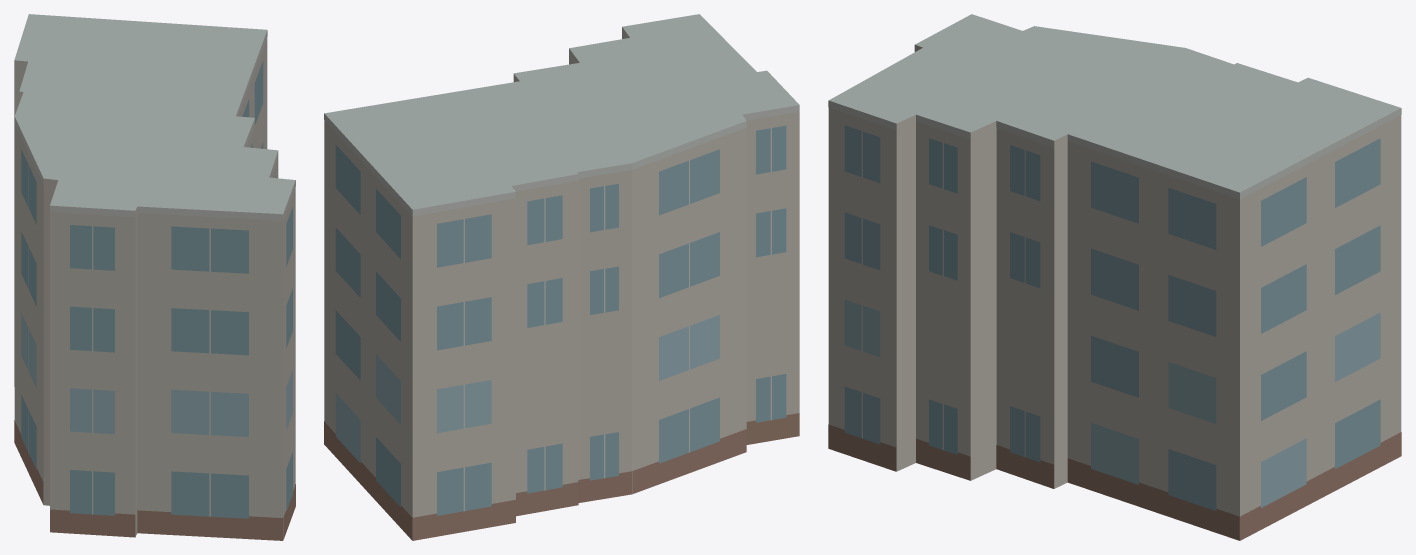
File: survey-upis-32811868.glb
3 renders of one model, left to right at view 1: azimuth 30°, elevation 25°; view 2: azimuth 150°, elevation 25°; view 3: azimuth 270°, elevation 25°, orthographic. The views are drawn at different scales.
Parts seen in each view (by area): view 1: survey-upis-32811868.tmp; view 2: survey-upis-32811868.tmp; view 3: survey-upis-32811868.tmp.
Boxes of the visible parts, bbox=[...] form: survey-upis-32811868.tmp: bbox=[14, 14, 295, 540]; survey-upis-32811868.tmp: bbox=[324, 14, 799, 540]; survey-upis-32811868.tmp: bbox=[828, 14, 1401, 540].
Size of the model in its own units: 13.43 by 12.2 by 18.2.
